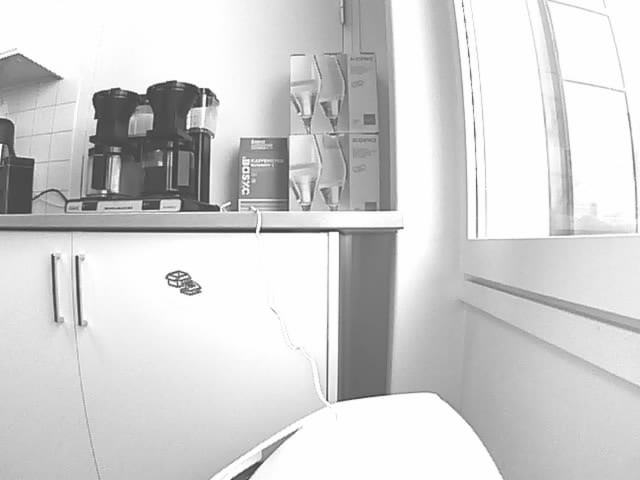empty coffee: (87, 146, 140, 200)
